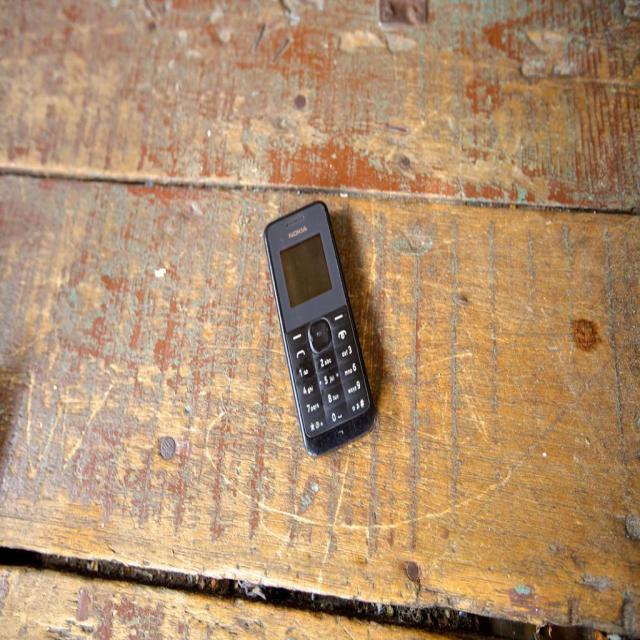Phone: (264, 202, 374, 454)
